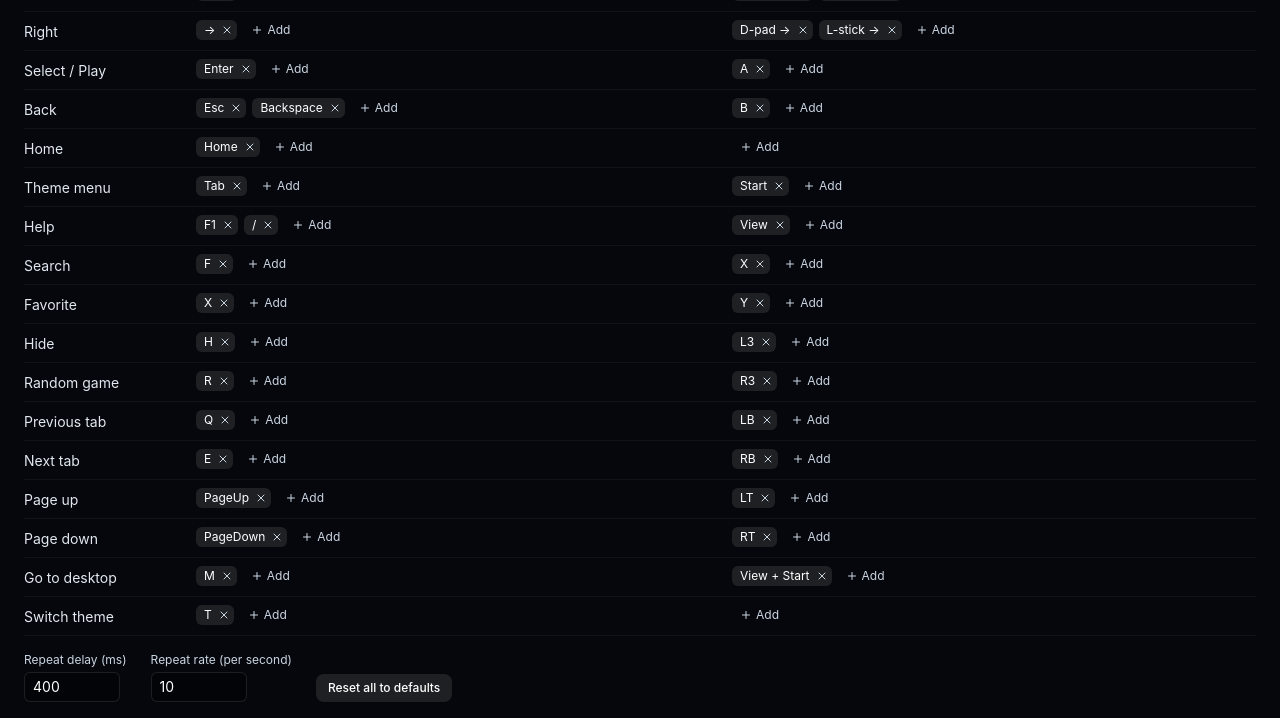
it: InputSection › FR-THM-3: a gamepad button pressed and released is captured
(page scrolled)
Click the button with aria-label "Add button for Switch theme": (760, 615) [732,605,787,625]
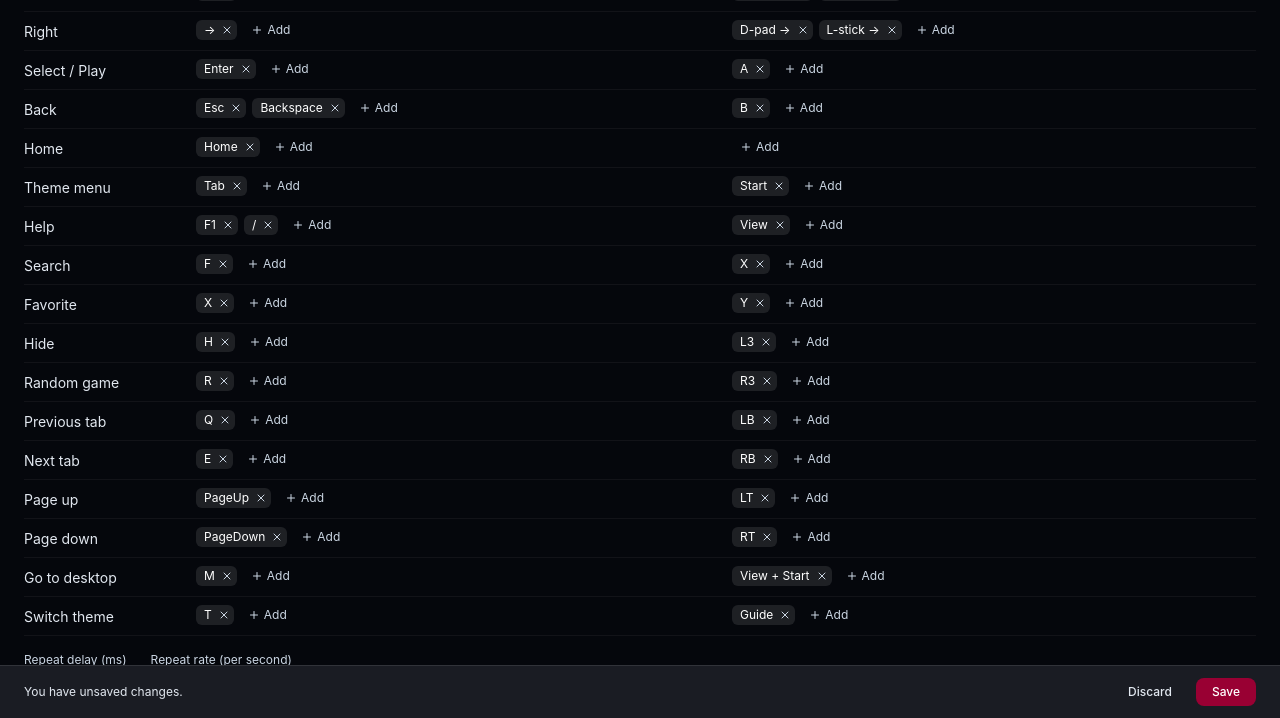
Check: the text "Guide" is shown, box [732,605,795,625]
